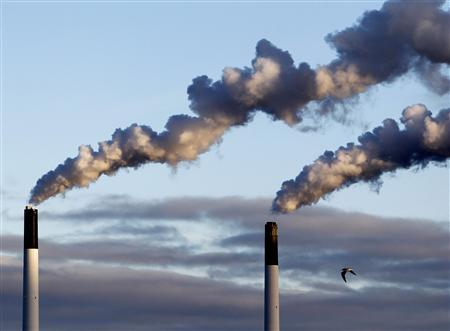dust: (261, 99, 435, 232), (19, 113, 179, 221)
